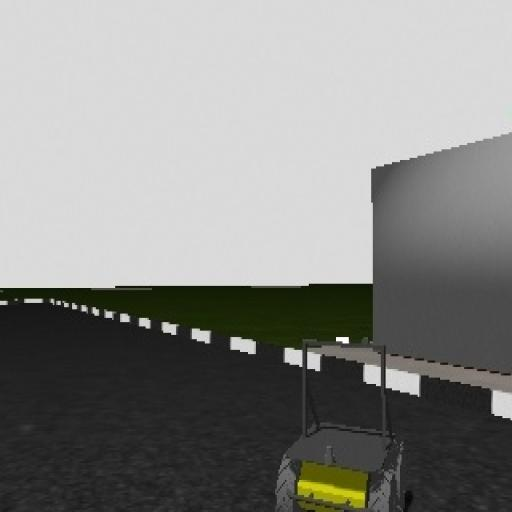huskya200: (266, 330, 418, 512)
